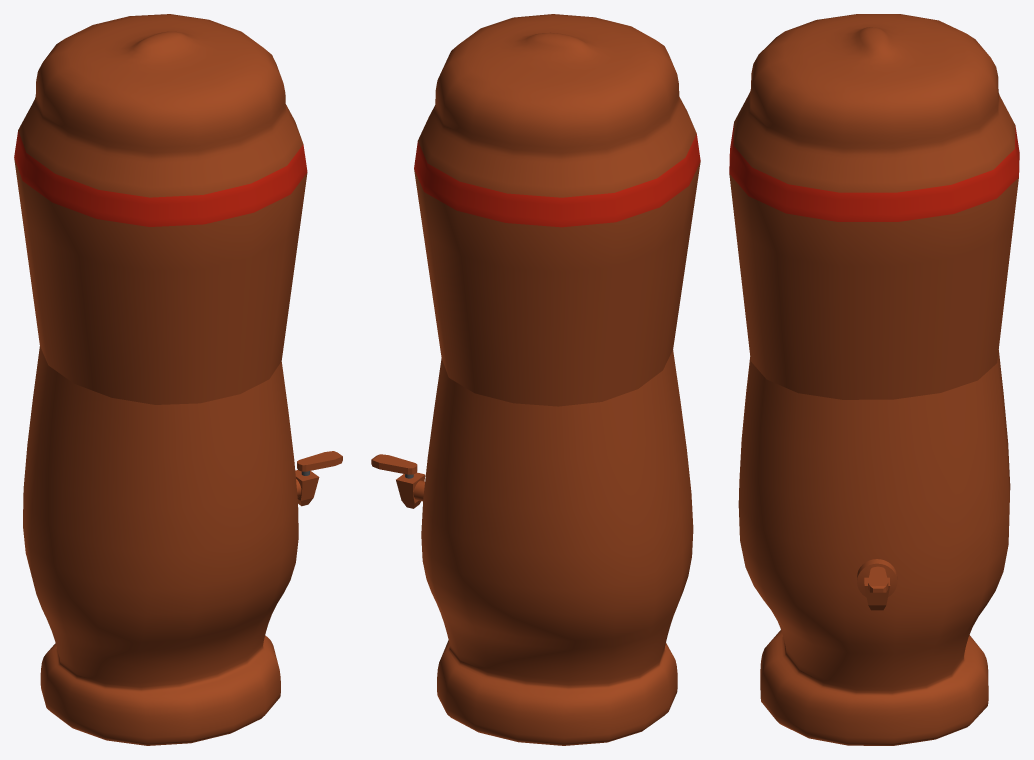
File: filtrodebarro.fbx
3 views of the same model, side by side, from view 1: azimuth 30°, elevation 25°; view 2: azimuth 150°, elevation 25°; view 3: azimuth 270°, elevation 25° (orthographic).
Visible parts, largest first — view 1: filtro, torneira; view 2: filtro, torneira; view 3: filtro, torneira.
Part boxes in pixels (x1,y1,x2,y2): filtro: (14, 14, 307, 745); torneira: (295, 451, 342, 506); filtro: (414, 14, 700, 745); torneira: (371, 454, 425, 508); filtro: (729, 14, 1019, 745); torneira: (857, 559, 897, 610).
Bounding box in the file's own units: 230 × 487 × 191.
